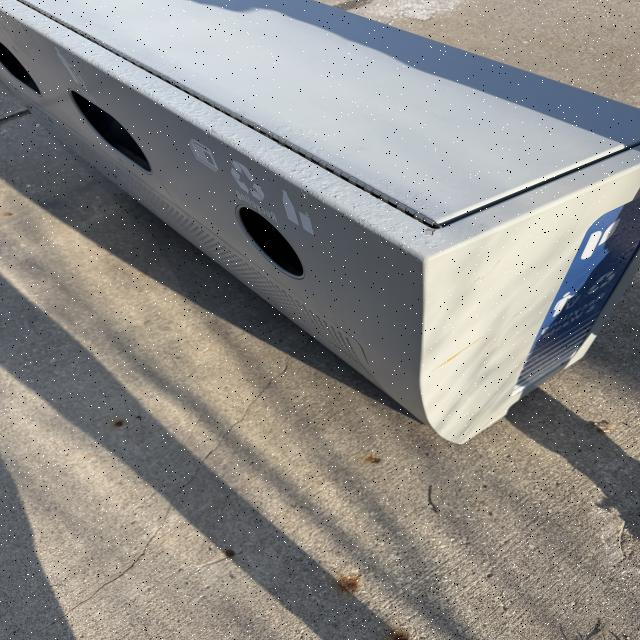Dustbin: (0, 1, 640, 446)
